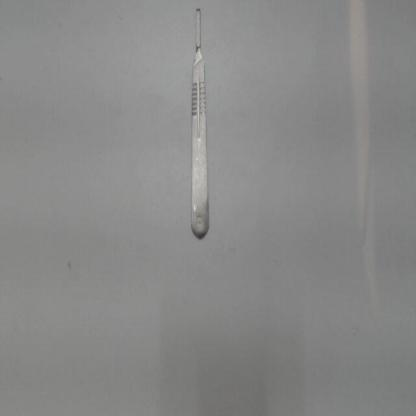No.4 BP Handle: (184, 2, 213, 244)
